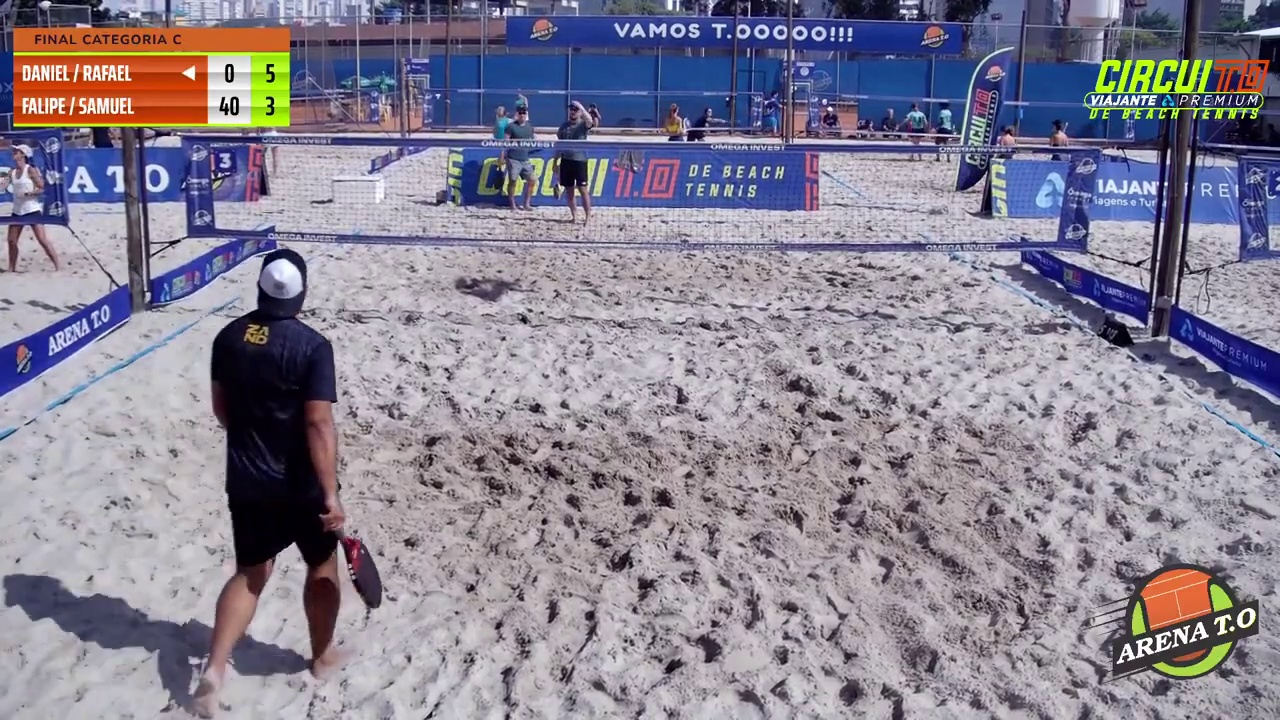court_line: (553, 0, 684, 488)
